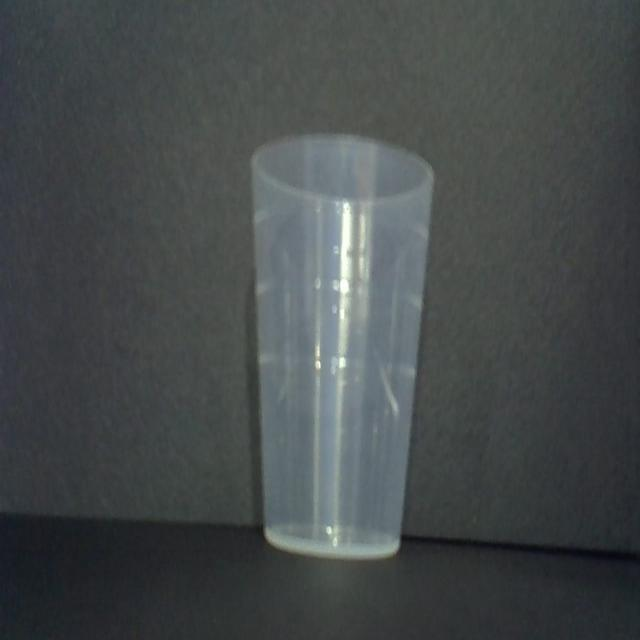cup: (249, 132, 436, 564)
